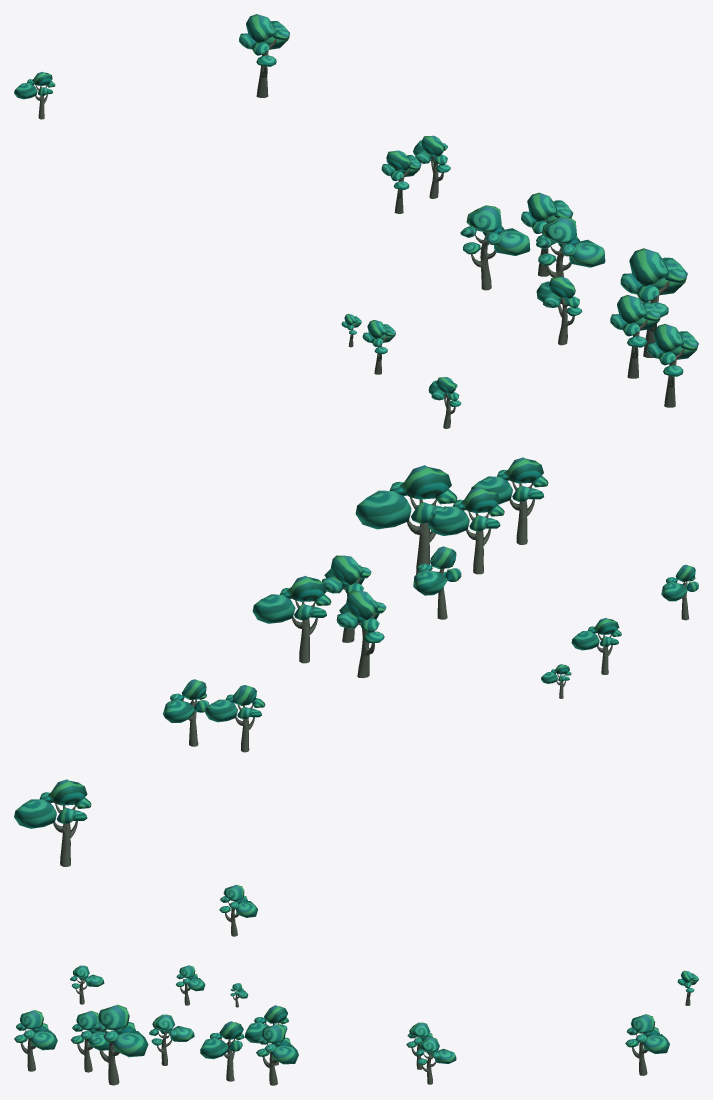
Rendered from treeB.fbx.
3 renders of one model, top to bottom at view 1: azimuth 30°, elevation 25°; view 2: azimuth 150°, elevation 25°; view 3: azimuth 270°, elevation 25°, orthographic. The views are drawn at different scales.
Visible parts, largest first — view 1: treeB; view 2: treeB; view 3: treeB.
Part boxes in pixels (x1,y1,x2,y2): treeB: [14, 14, 698, 428]; treeB: [14, 457, 698, 936]; treeB: [14, 965, 698, 1085].
Bounding box in the file's own units: 1715 × 611 × 4893.
